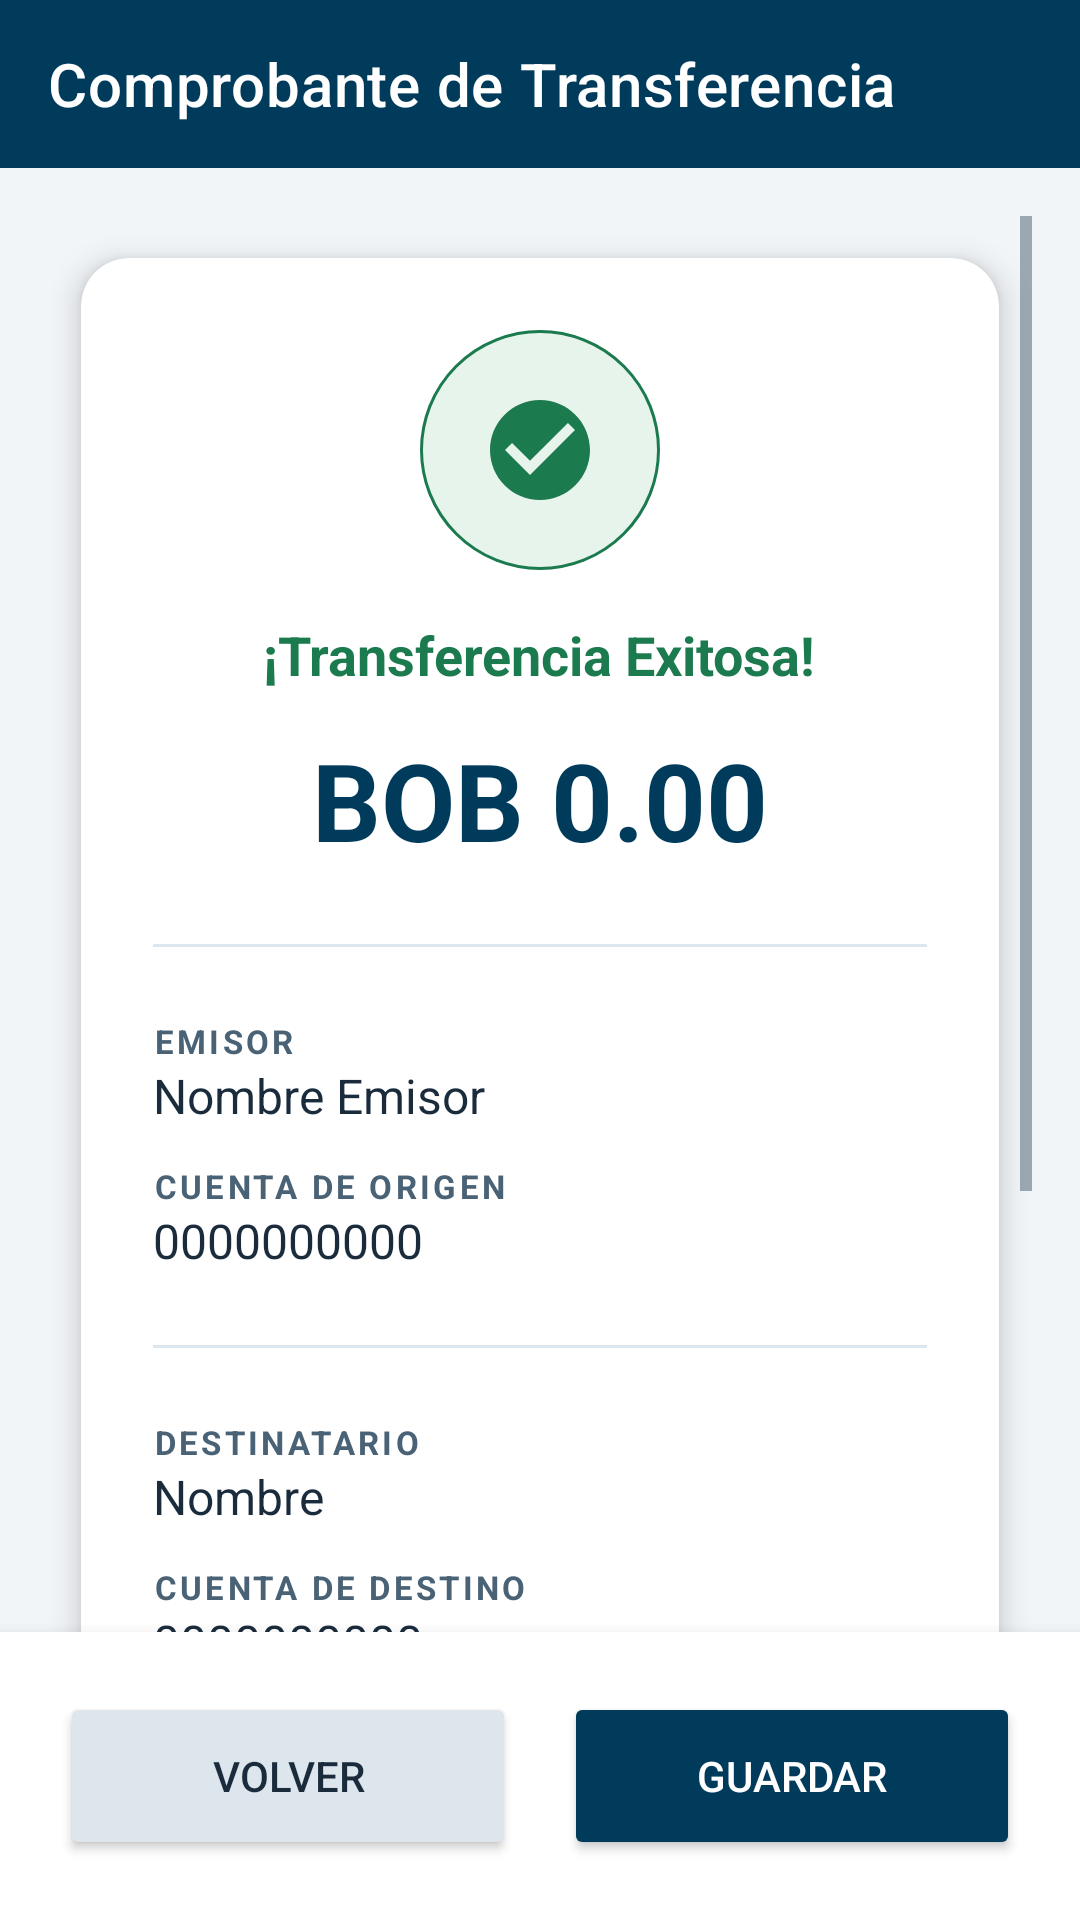

Icons on this 1080 × 1920 Android screen, each with its box as {"x1": x1, "y1": y1, "x2": x2, "y2": y2}:
check circle: {"x1": 490, "y1": 400, "x2": 590, "y2": 500}
